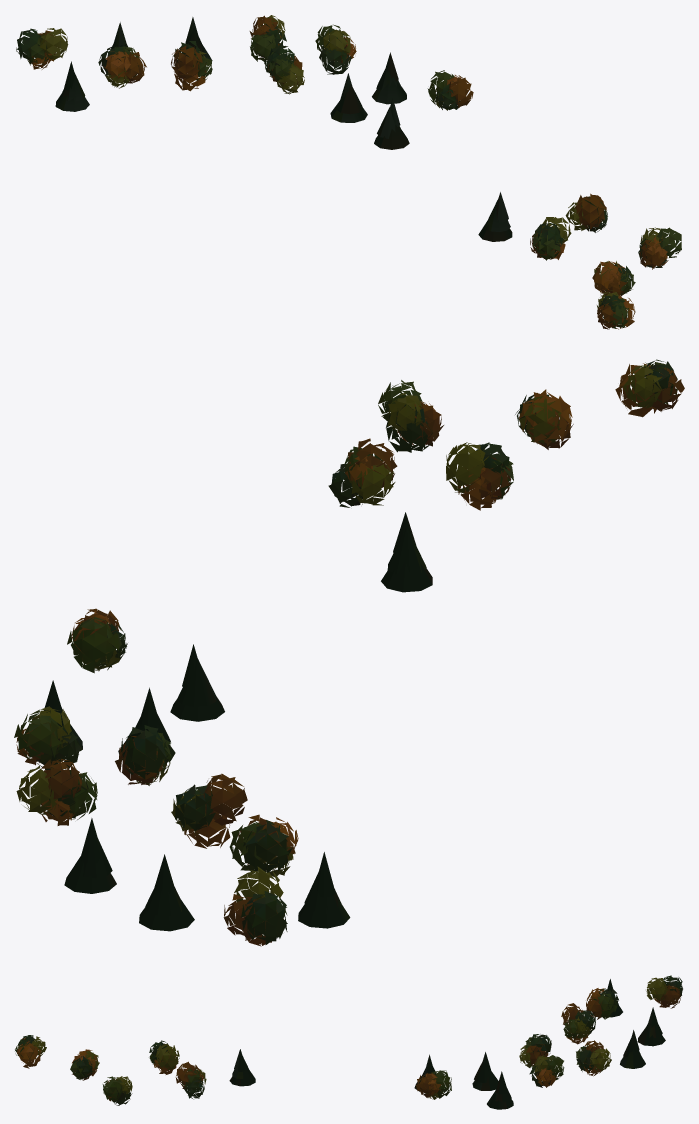
The model's file is forecourt.glb.
3 renders of one model, top to bottom at view 1: azimuth 30°, elevation 25°; view 2: azimuth 150°, elevation 25°; view 3: azimuth 270°, elevation 25°, orthographic. The views are drawn at different scales.
Visible parts, largest first — view 1: canopies; view 2: canopies; view 3: canopies.
Part boxes in pixels (x1,y1,x2,y2): canopies: (16, 15, 681, 329); canopies: (14, 359, 684, 946); canopies: (15, 975, 682, 1109).
Bounding box in the file's own units: 33.38 × 5.75 × 83.56.
